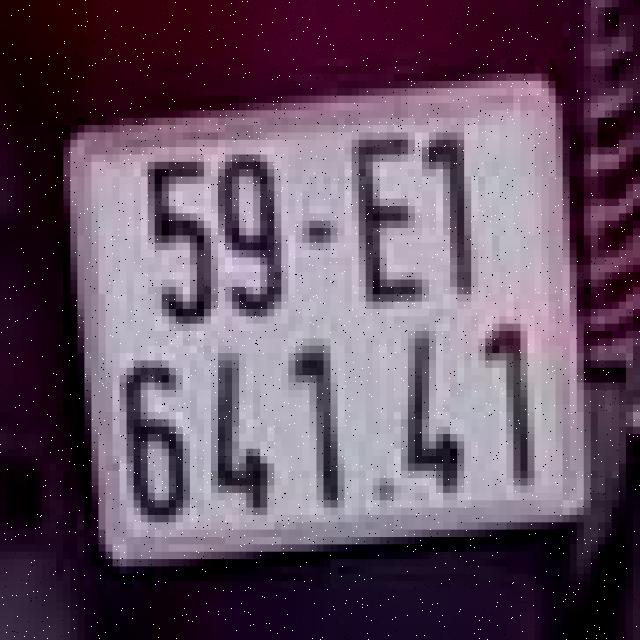1: (407, 111, 504, 312), (295, 342, 352, 526), (492, 320, 542, 497)
4: (383, 312, 475, 518), (200, 346, 278, 522)
5: (134, 155, 218, 331), (218, 140, 288, 331)
6: (119, 353, 197, 530)
E: (342, 123, 437, 314)
